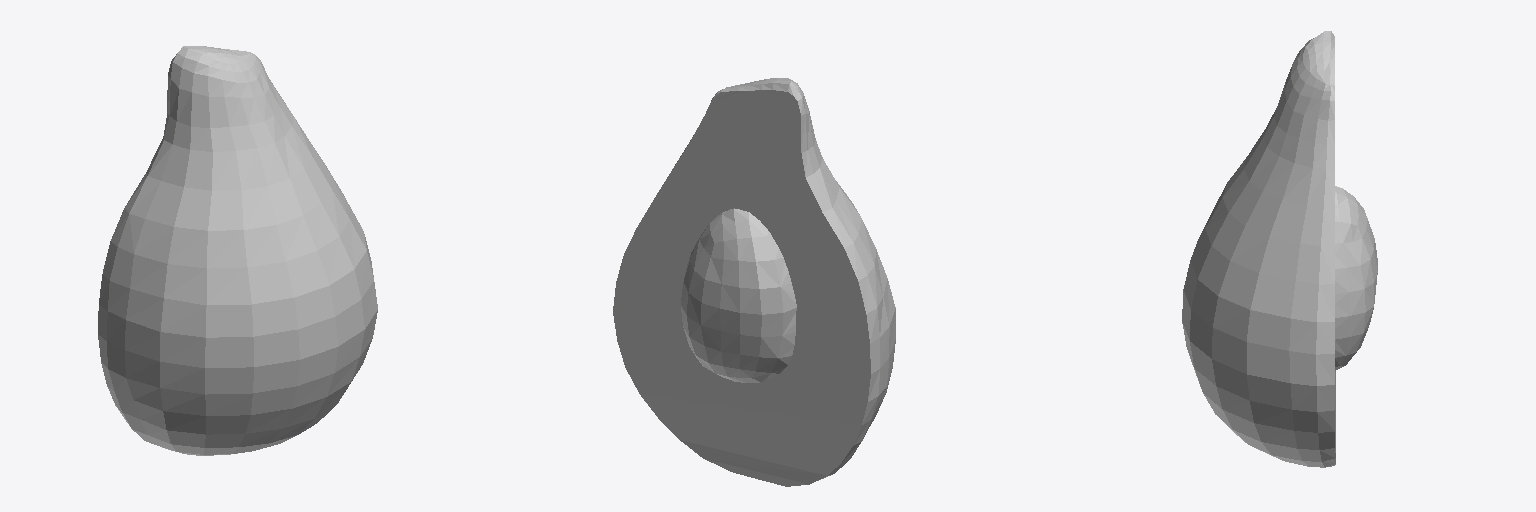
The model's file is avocado.obj.
The picture shows the model from 3 angles: view 1: azimuth 30°, elevation 25°; view 2: azimuth 150°, elevation 25°; view 3: azimuth 270°, elevation 25°; orthographic projection.
Parts seen in each view (by area): view 1: Avocado; view 2: Avocado; view 3: Avocado.
Boxes of the visible parts, x1,y1,x2,y2 form: Avocado: [98, 46, 377, 455]; Avocado: [613, 78, 895, 486]; Avocado: [1182, 31, 1377, 467].
Bounding box in the file's own units: 0.0426 × 0.0629 × 0.0276.